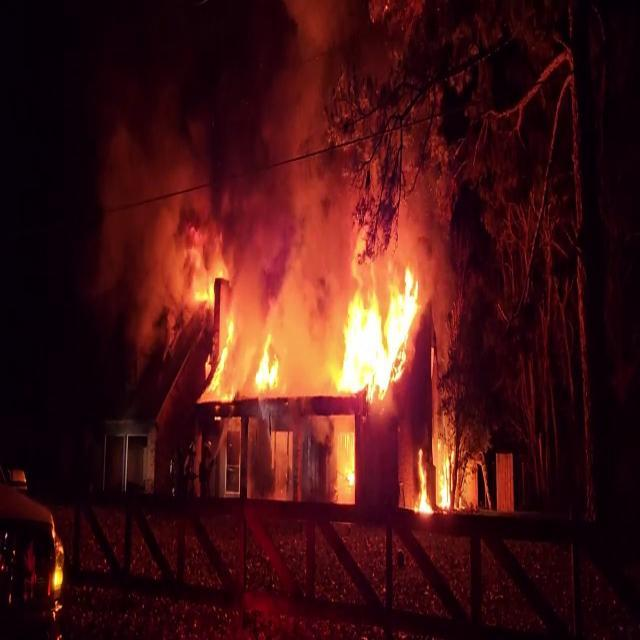Fire: (328, 254, 424, 406), (192, 282, 284, 408), (412, 423, 456, 522), (325, 414, 357, 512), (45, 517, 69, 618)
Smoke: (84, 0, 352, 307)
